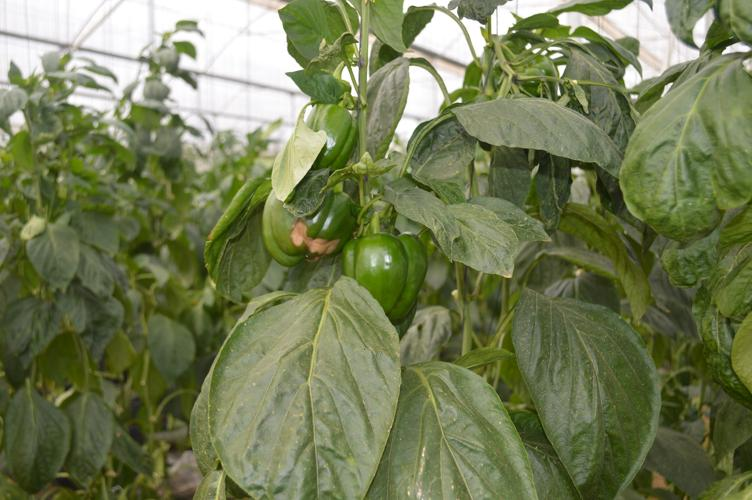BellPepper: (341, 233, 430, 327), (263, 191, 357, 266), (306, 104, 357, 167)
